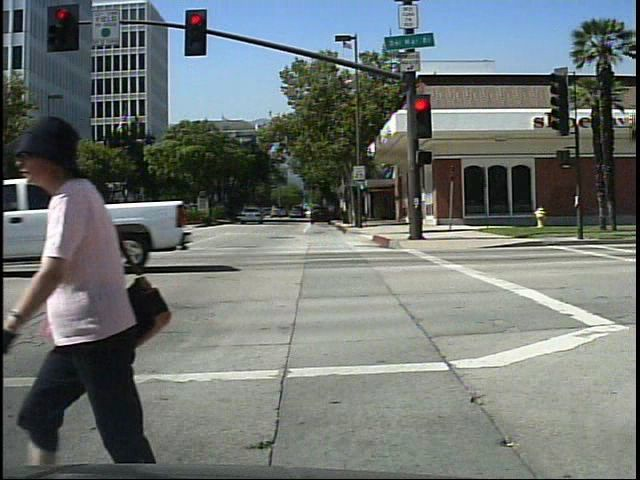person: (0, 109, 178, 470)
